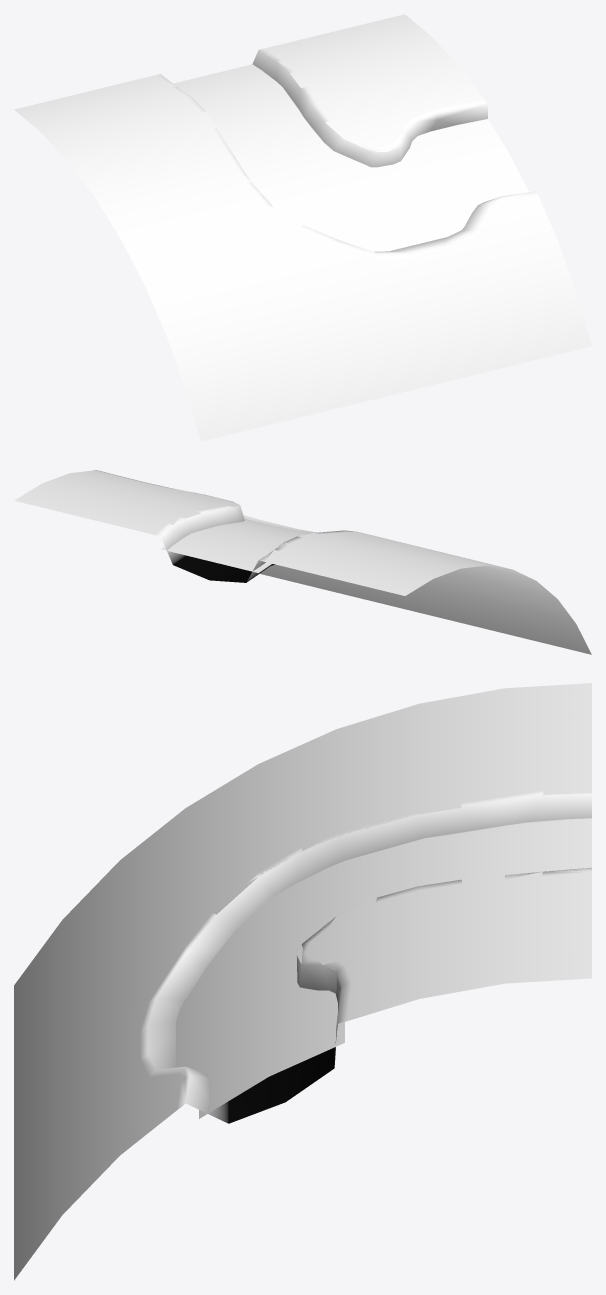
Rendered from grd_Rse_1.dae.
3 renders of one model, top to bottom at view 1: azimuth 30°, elevation 25°; view 2: azimuth 150°, elevation 25°; view 3: azimuth 270°, elevation 25°, orthographic. The views are drawn at different scales.
Visible parts, largest first — view 1: grd_Rse_1; view 2: grd_Rse_1; view 3: grd_Rse_1.
Part boxes in pixels (x1,y1,x2,y2): grd_Rse_1: (14,14,591,441); grd_Rse_1: (14,470,591,654); grd_Rse_1: (14,683,591,1280).
Bounding box in the file's own units: 512 × 244 × 423.
4 materials, 1 textured.
